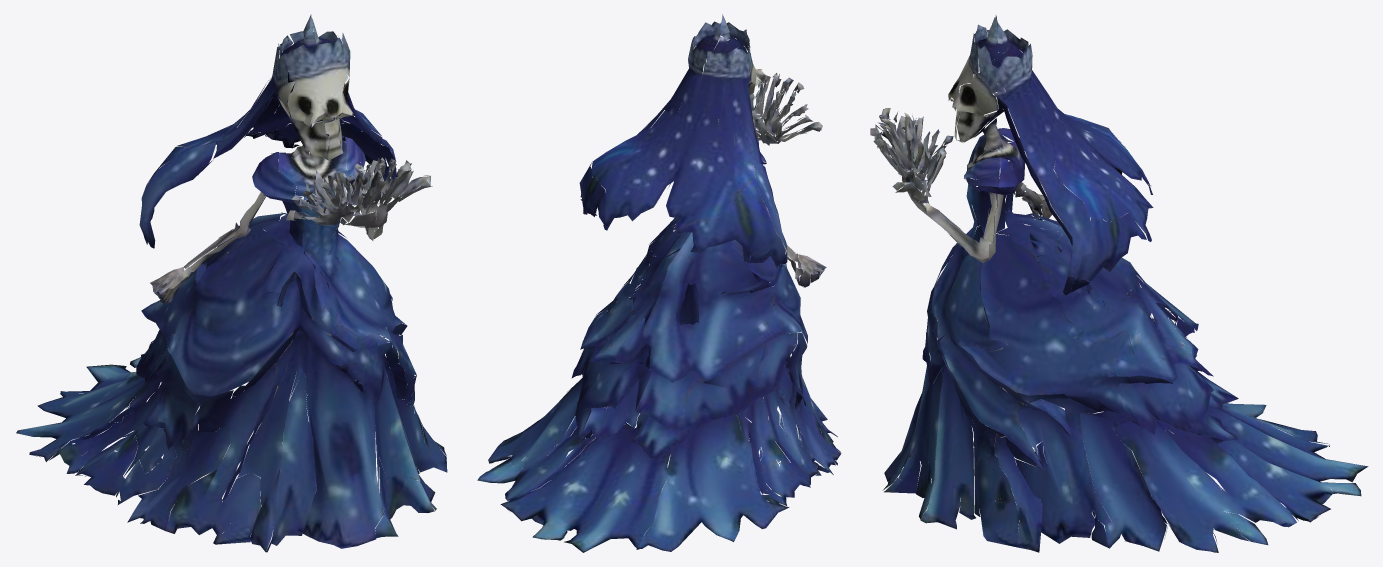
The model's file is skeleton_queen.glb.
The picture shows the model from 3 angles, left to right: view 1: azimuth 30°, elevation 25°; view 2: azimuth 150°, elevation 25°; view 3: azimuth 270°, elevation 25°; orthographic projection. The views are drawn at different scales.
Visible parts, largest first — view 1: geometry_0; view 2: geometry_0; view 3: geometry_0.
Boxes of the visible parts, x1=… form: geometry_0: x1=16, y1=14, x2=447, y2=552; geometry_0: x1=477, y1=14, x2=841, y2=552; geometry_0: x1=870, y1=15, x2=1368, y2=552.
Bounding box in the file's own units: 0.7189 × 1 × 0.9648.
1 material, 1 textured.
